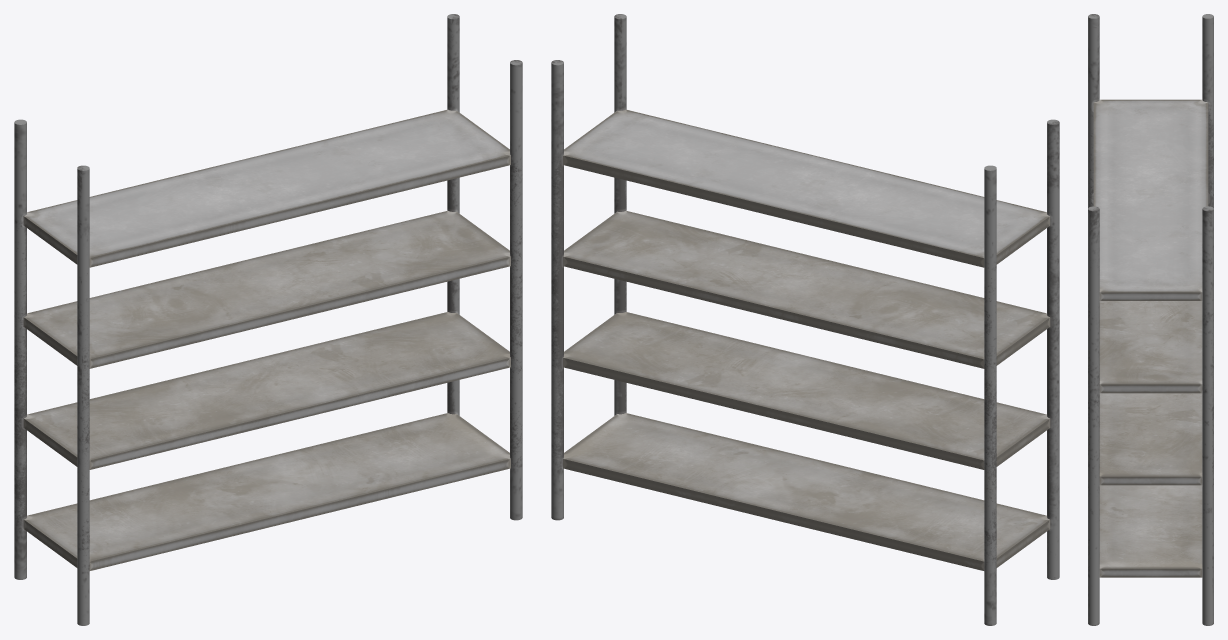
Rendered from Shelf.fbx.
3 views of the same model, side by side, from view 1: azimuth 30°, elevation 25°; view 2: azimuth 150°, elevation 25°; view 3: azimuth 270°, elevation 25° (orthographic). The views are drawn at different scales.
Visible parts, largest first — view 1: Shelf; view 2: Shelf; view 3: Shelf.
Part boxes in pixels (box(x1,y1,x2,y2)): Shelf: box(14, 14, 522, 625); Shelf: box(551, 14, 1059, 625); Shelf: box(1088, 14, 1213, 625).
Bounding box in the file's own units: 2.04 × 0.55 × 2.
